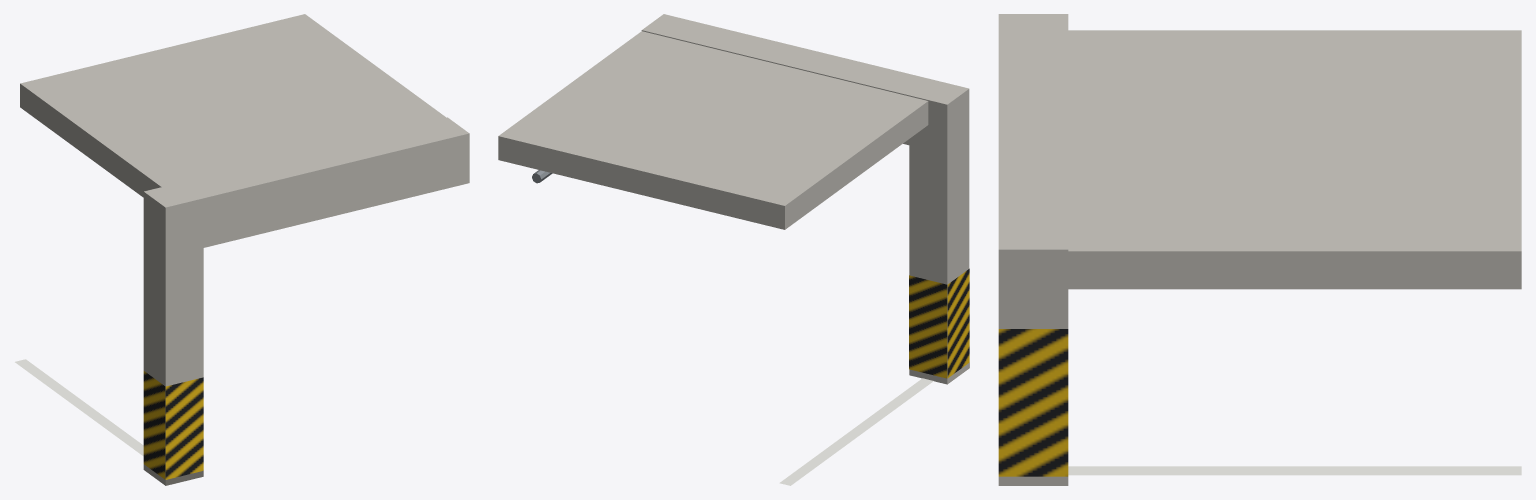
The model's file is SC_Bld_Villa_Pilotis_Bay_3x3.gltf.
3 renders of one model, left to right at view 1: azimuth 30°, elevation 25°; view 2: azimuth 150°, elevation 25°; view 3: azimuth 270°, elevation 25°, orthographic. The views are drawn at different scales.
Visible parts, largest first — view 1: SC_Bld_Villa_Pilotis_Bay_3x3; view 2: SC_Bld_Villa_Pilotis_Bay_3x3; view 3: SC_Bld_Villa_Pilotis_Bay_3x3.
Boxes of the visible parts, x1,y1,x2,y2 form: SC_Bld_Villa_Pilotis_Bay_3x3: (15,14,469,485); SC_Bld_Villa_Pilotis_Bay_3x3: (498,14,969,485); SC_Bld_Villa_Pilotis_Bay_3x3: (998,14,1521,485).
Size of the model in its own units: 3.2 by 2.8 by 3.
3 materials, 3 textured.
